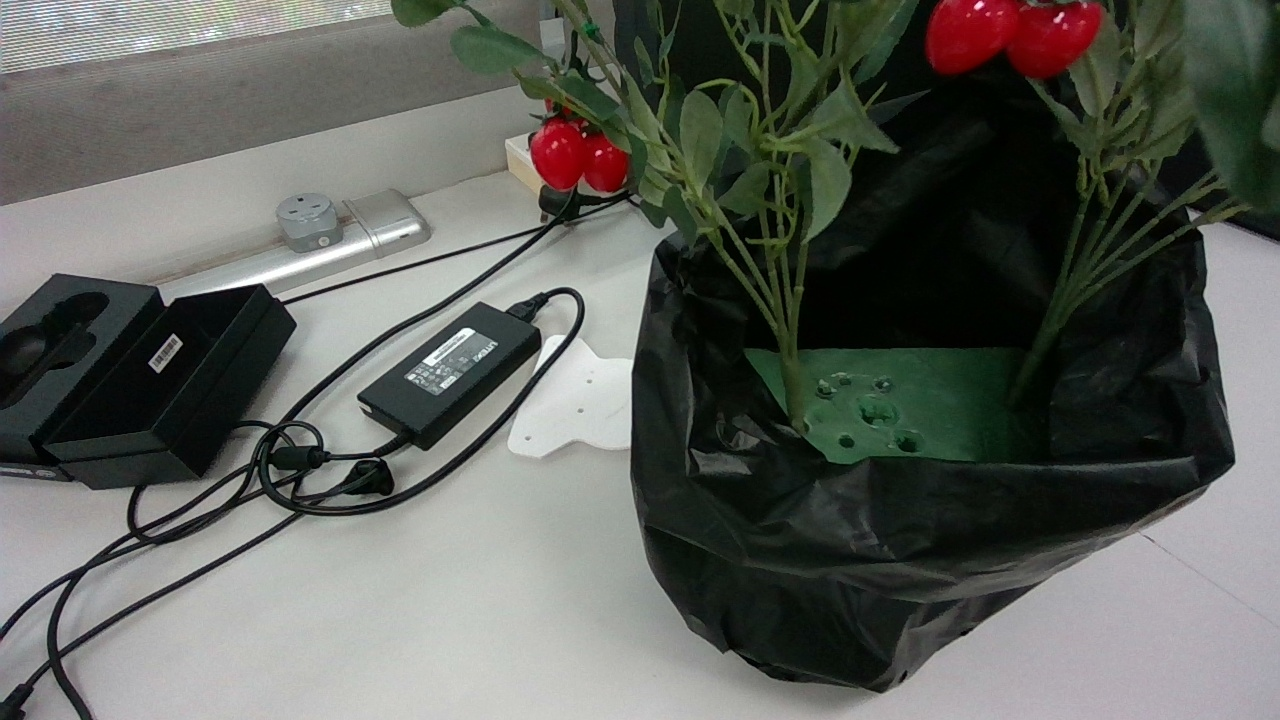peduncle: (571, 33, 578, 55)
strawberry: (1007, 1, 1107, 76), (927, 0, 1022, 74), (530, 116, 585, 190), (584, 132, 629, 190)
